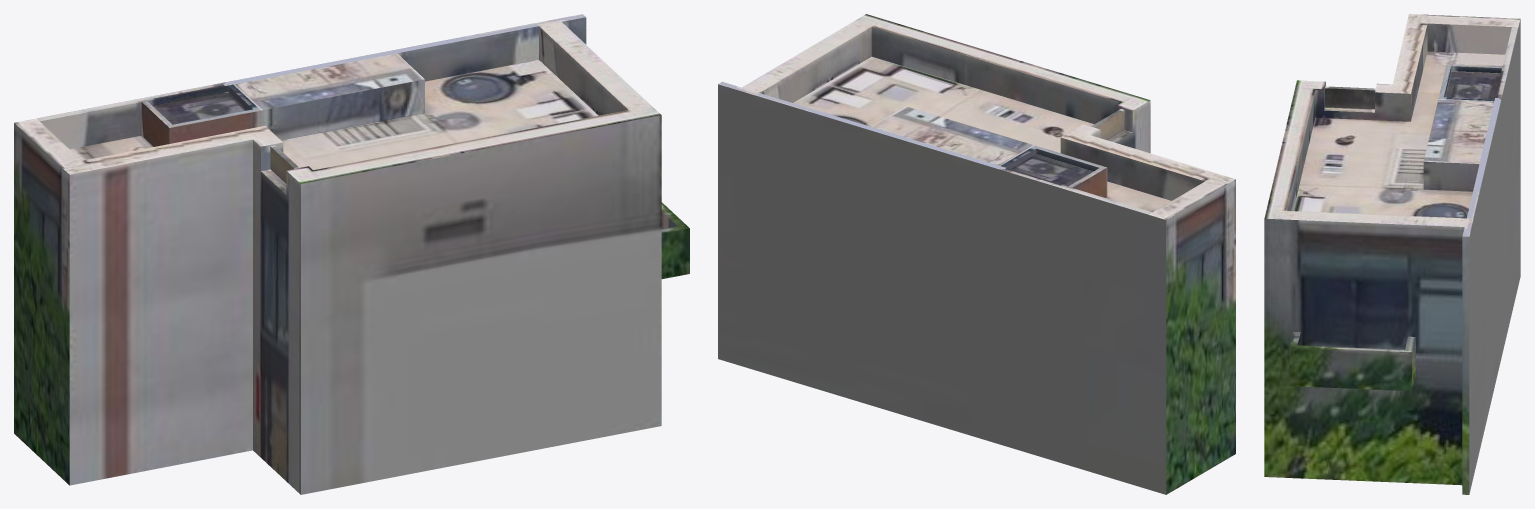
3 renders of one model, left to right at view 1: azimuth 30°, elevation 25°; view 2: azimuth 150°, elevation 25°; view 3: azimuth 270°, elevation 25°, orthographic. The views are drawn at different scales.
Visible parts, largest first — view 1: B286044036601062A0; view 2: B286044036601062A0; view 3: B286044036601062A0.
Part boxes in pixels (x1=…): B286044036601062A0: x1=14, y1=14, x2=689, y2=494; B286044036601062A0: x1=718, y1=14, x2=1235, y2=494; B286044036601062A0: x1=1264, y1=14, x2=1520, y2=494.
Bounding box in the file's own units: 16.18 × 8.57 × 7.7.
1 material, 1 textured.
